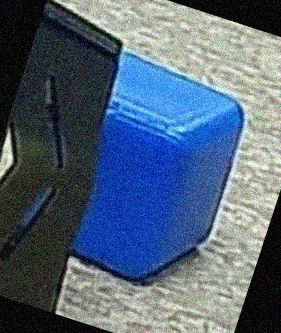blue_cube: (100, 71, 252, 288)
